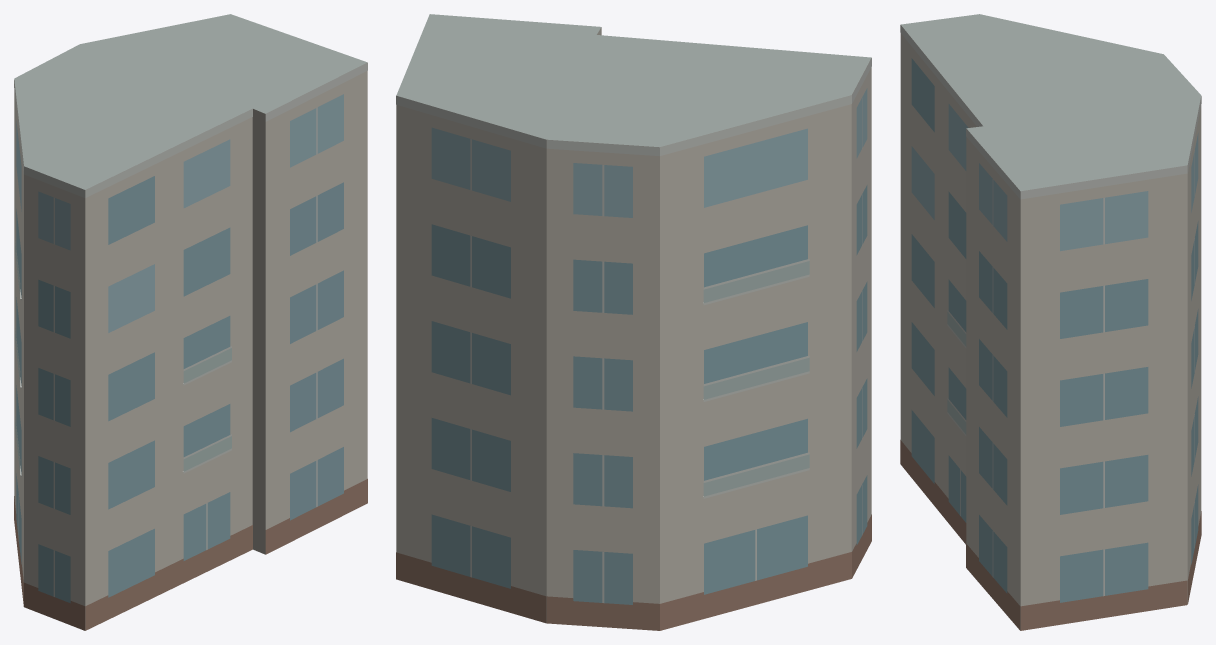
The model's file is survey-upis-32460948.glb.
3 views of the same model, side by side, from view 1: azimuth 30°, elevation 25°; view 2: azimuth 150°, elevation 25°; view 3: azimuth 270°, elevation 25° (orthographic). The views are drawn at different scales.
Visible parts, largest first — view 1: survey-upis-32460948.tmp; view 2: survey-upis-32460948.tmp; view 3: survey-upis-32460948.tmp.
Boxes of the visible parts, bbox=[...] form: survey-upis-32460948.tmp: bbox=[14, 14, 367, 630]; survey-upis-32460948.tmp: bbox=[396, 14, 871, 630]; survey-upis-32460948.tmp: bbox=[900, 14, 1201, 630].
Bounding box in the file's own units: 11.34 × 13.1 × 8.14.
